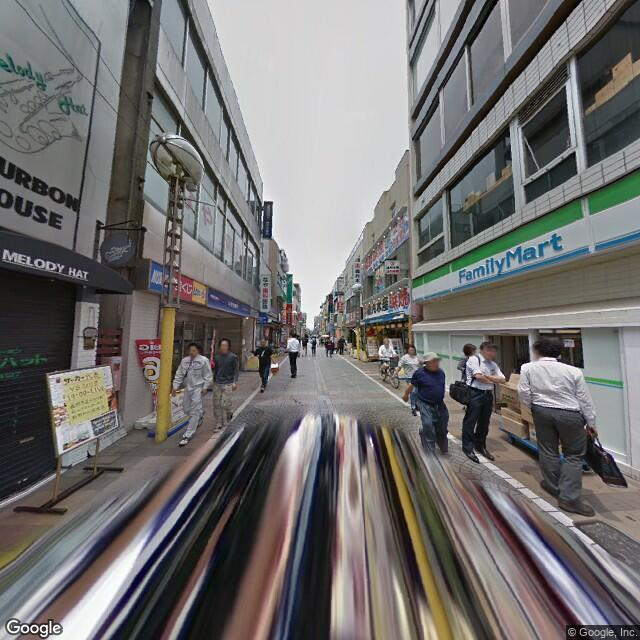family_mart: (411, 166, 639, 303), (455, 227, 568, 289)
